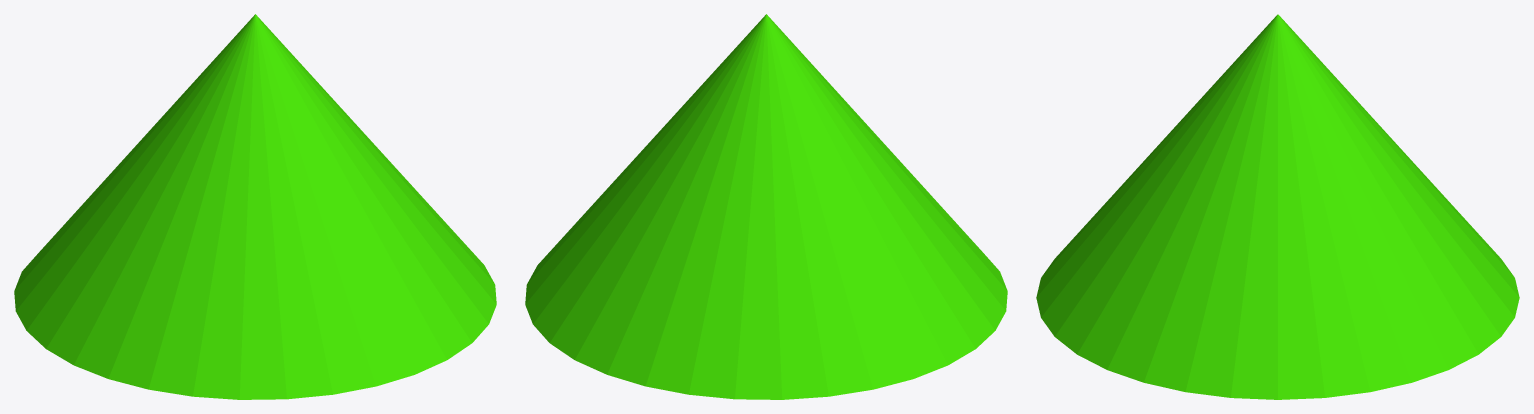
3 views of the same model, side by side, from view 1: azimuth 30°, elevation 25°; view 2: azimuth 150°, elevation 25°; view 3: azimuth 270°, elevation 25° (orthographic).
Parts seen in each view (by area): view 1: Cone; view 2: Cone; view 3: Cone.
Boxes of the visible parts, x1,y1,x2,y2 form: Cone: (14, 14, 496, 399); Cone: (525, 14, 1007, 399); Cone: (1036, 14, 1519, 399).
Size of the model in its own units: 2 by 1.3 by 2.
